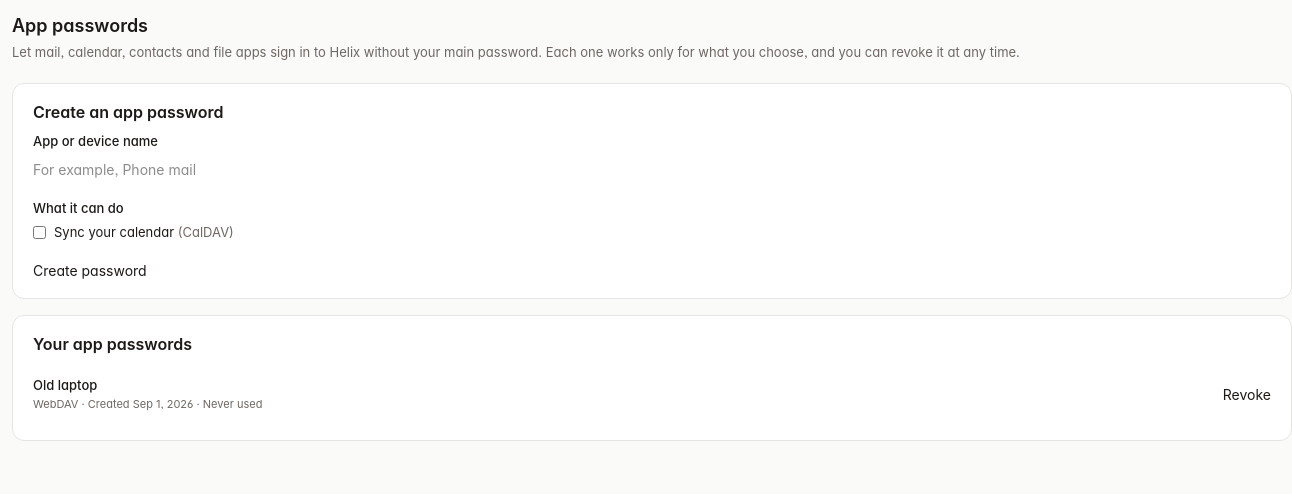
Scenario: App passwords › offers only what you can grant, and requires a name and a use
What coordinates should you click on to do the following:
click the button "Create password"
I would click on:
 (90, 270)
Its box is x1=33 y1=258 x2=147 y2=282.
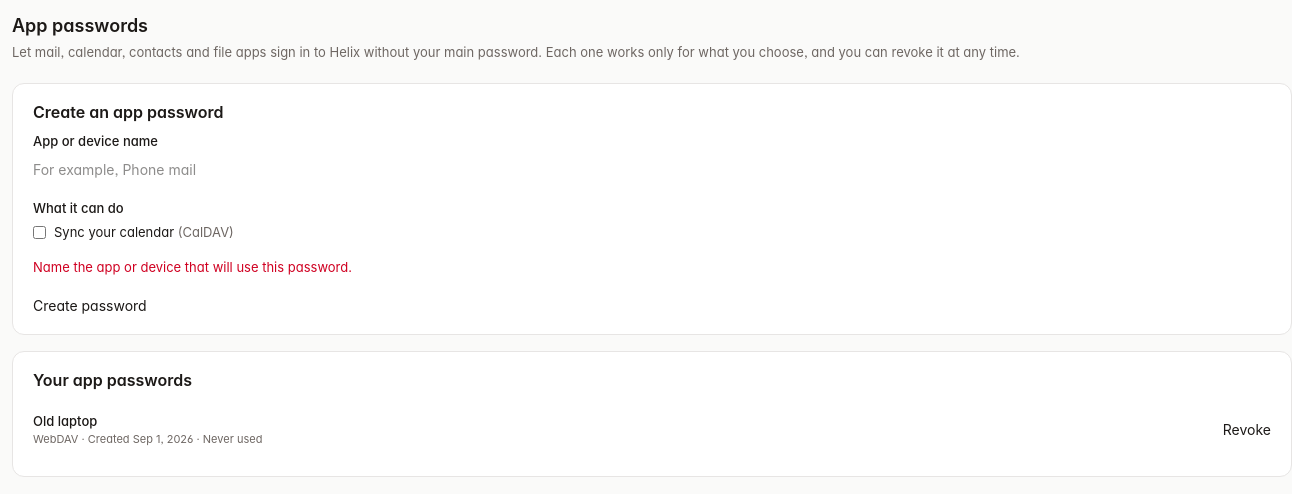
Now the message "Name the app or device that will use this password." is shown, box x1=33 y1=259 x2=352 y2=275
